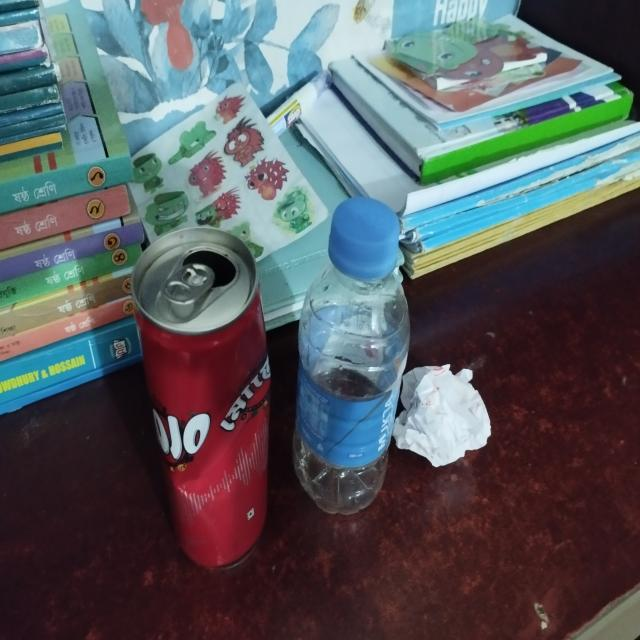aluminum: (129, 228, 274, 568)
paper: (395, 359, 496, 464)
plastic: (298, 197, 410, 516)
